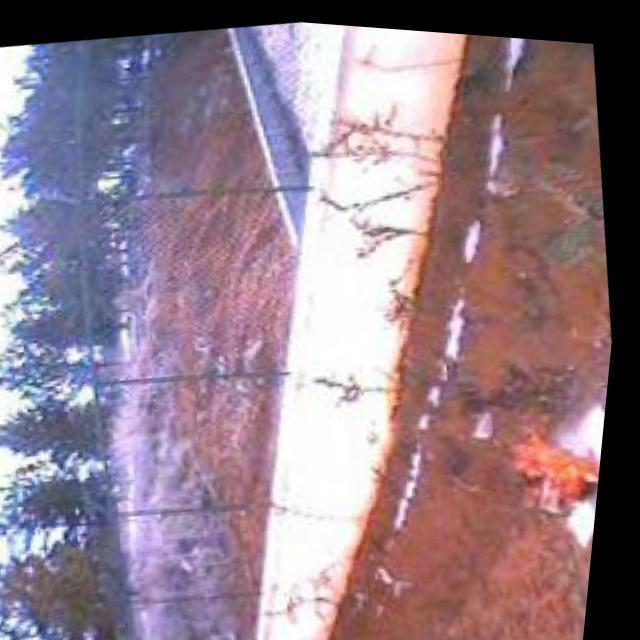Fire: (497, 403, 612, 514)
